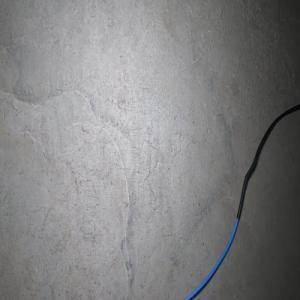Wire: (183, 103, 300, 300)
